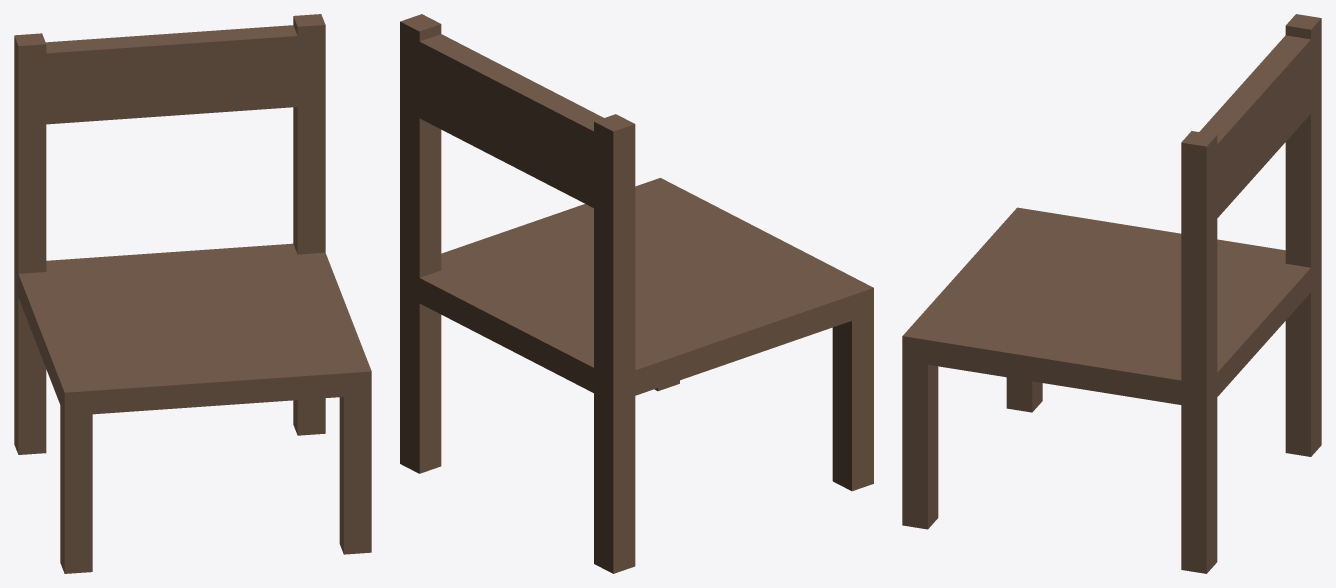
Rendered from Desk_Chair.fbx.
3 renders of one model, left to right at view 1: azimuth 30°, elevation 25°; view 2: azimuth 150°, elevation 25°; view 3: azimuth 270°, elevation 25°, orthographic. The views are drawn at different scales.
Parts seen in each view (by area): view 1: Desk Chair; view 2: Desk Chair; view 3: Desk Chair.
Part boxes in pixels (bbox=[...]): Desk Chair: bbox=[14, 14, 371, 573]; Desk Chair: bbox=[400, 14, 873, 573]; Desk Chair: bbox=[902, 14, 1321, 573].
Bounding box in the file's own units: 1546 × 1740 × 1546.
